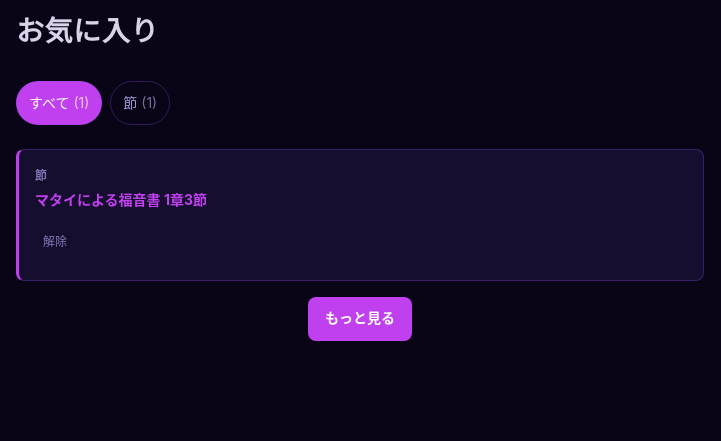
Test: BookmarksPage › 続きがあるとき「もっと見る」を表示し、押すと次のページを足す
The image size is (721, 441).
Click the button "もっと見る" at (360, 319), box [308,297,412,341]
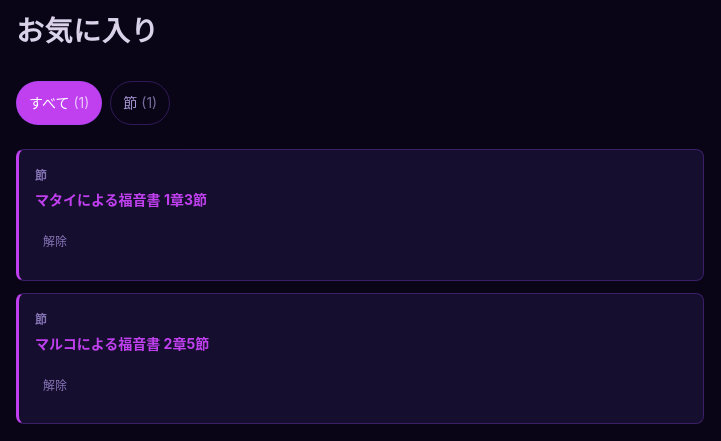
Expected: the text "マタイによる福音書 1章3節" is shown, [35,191,207,208]
Expected: the text "マルコによる福音書 2章5節" is shown, [35,335,209,352]
